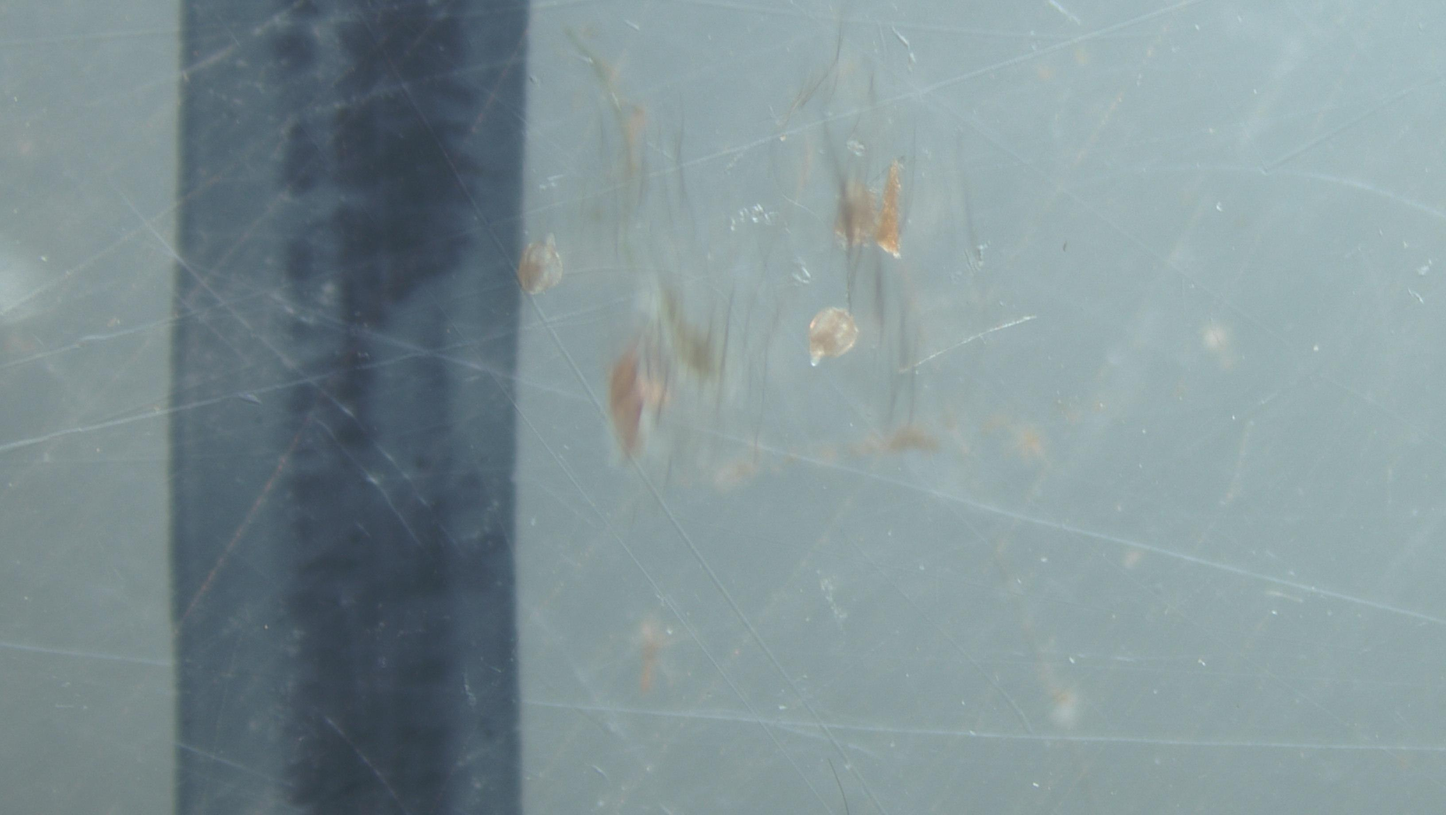live: (808, 307, 859, 366), (518, 234, 564, 295)
